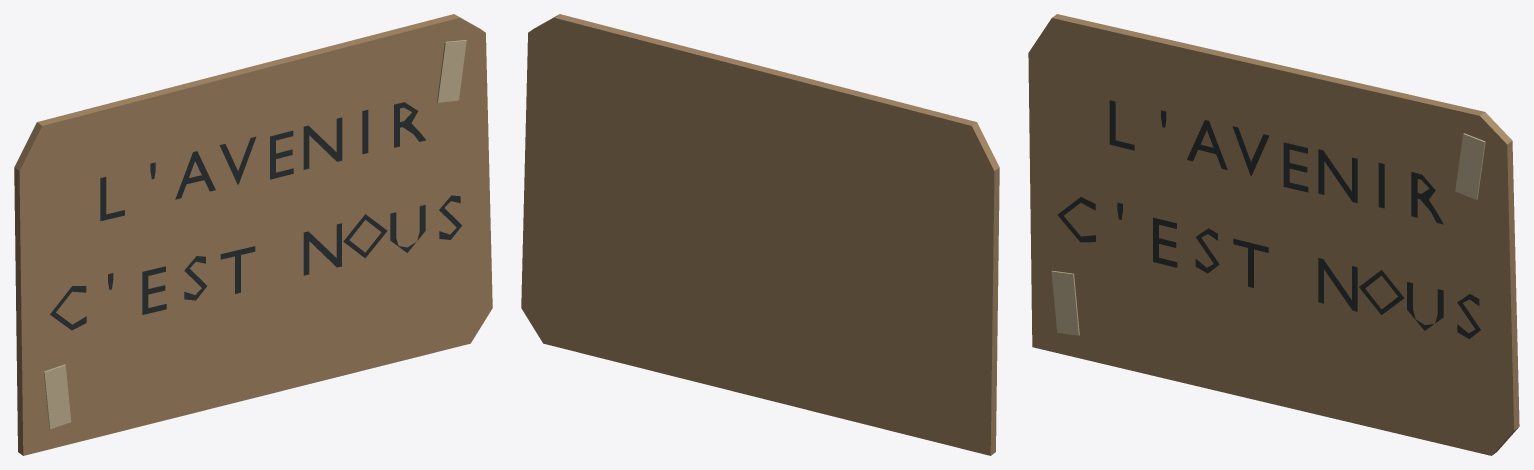
File: carton-avenir.glb
3 renders of one model, left to right at view 1: azimuth 30°, elevation 25°; view 2: azimuth 150°, elevation 25°; view 3: azimuth 330°, elevation 25°, orthographic. The views are drawn at different scales.
Visible parts, largest first — view 1: carton-avenir; view 2: carton-avenir; view 3: carton-avenir.
Boxes of the visible parts, x1=… form: carton-avenir: x1=14, y1=14, x2=492, y2=455; carton-avenir: x1=521, y1=14, x2=999, y2=455; carton-avenir: x1=1028, y1=14, x2=1519, y2=455.
Size of the model in its own units: 0.624 by 0.418 by 0.015.
